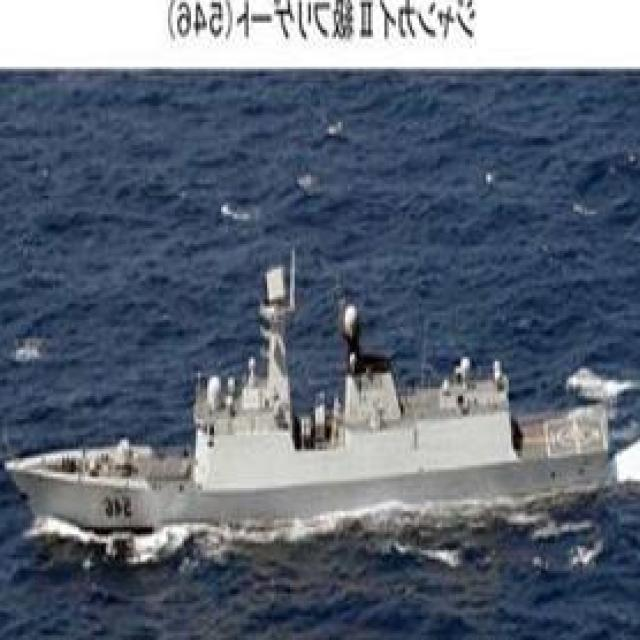navalvessels: (4, 266, 607, 550)
